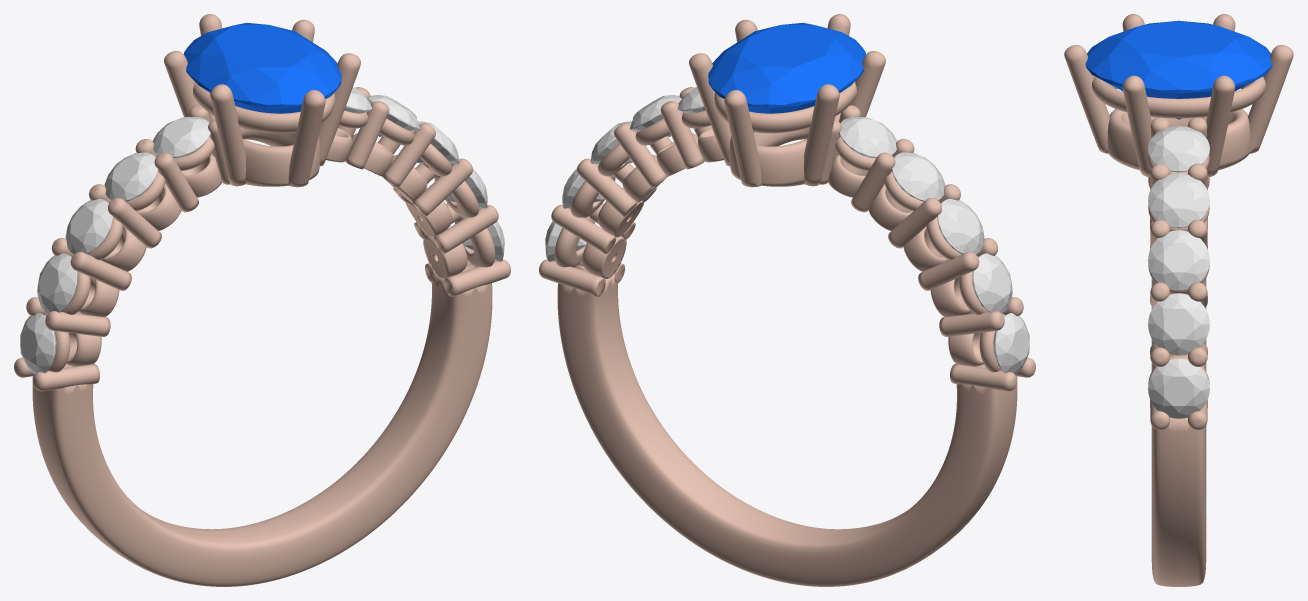
Rendered from bluesapphire-oval-rosegold-6prong-straightband-11stone.glb.
3 views of the same model, side by side, from view 1: azimuth 30°, elevation 25°; view 2: azimuth 150°, elevation 25°; view 3: azimuth 270°, elevation 25° (orthographic).
Parts seen in each view (by area): view 1: metal, stone.001, side.012, side.013, side.011, side.014, side.010, side.018; view 2: metal, stone.001, side.012, side.013, side.011, side.014, side.010, side.018; view 3: metal, stone.001, side.016, side.017, side.015, side.018, side.019.
Boxes of the visible parts, x1,y1,x2,y2 form: metal: [14, 14, 510, 586]; stone.001: [184, 22, 341, 113]; side.012: [65, 198, 112, 254]; side.013: [104, 152, 158, 201]; side.011: [37, 253, 77, 313]; side.014: [152, 117, 210, 158]; side.010: [20, 313, 56, 374]; side.018: [368, 95, 420, 136]; metal: [539, 14, 1035, 586]; stone.001: [708, 22, 865, 113]; side.012: [937, 198, 984, 254]; side.013: [891, 152, 945, 201]; side.011: [972, 253, 1012, 313]; side.014: [839, 117, 897, 158]; side.010: [993, 313, 1029, 374]; side.018: [629, 95, 681, 136]; metal: [1064, 14, 1293, 586]; stone.001: [1085, 20, 1272, 119]; side.016: [1148, 293, 1209, 354]; side.017: [1148, 230, 1209, 290]; side.015: [1148, 358, 1209, 418]; side.018: [1148, 173, 1209, 228]; side.019: [1148, 126, 1209, 172].
Bounding box in the file's own units: 21.96 × 23.4 × 9.29.
